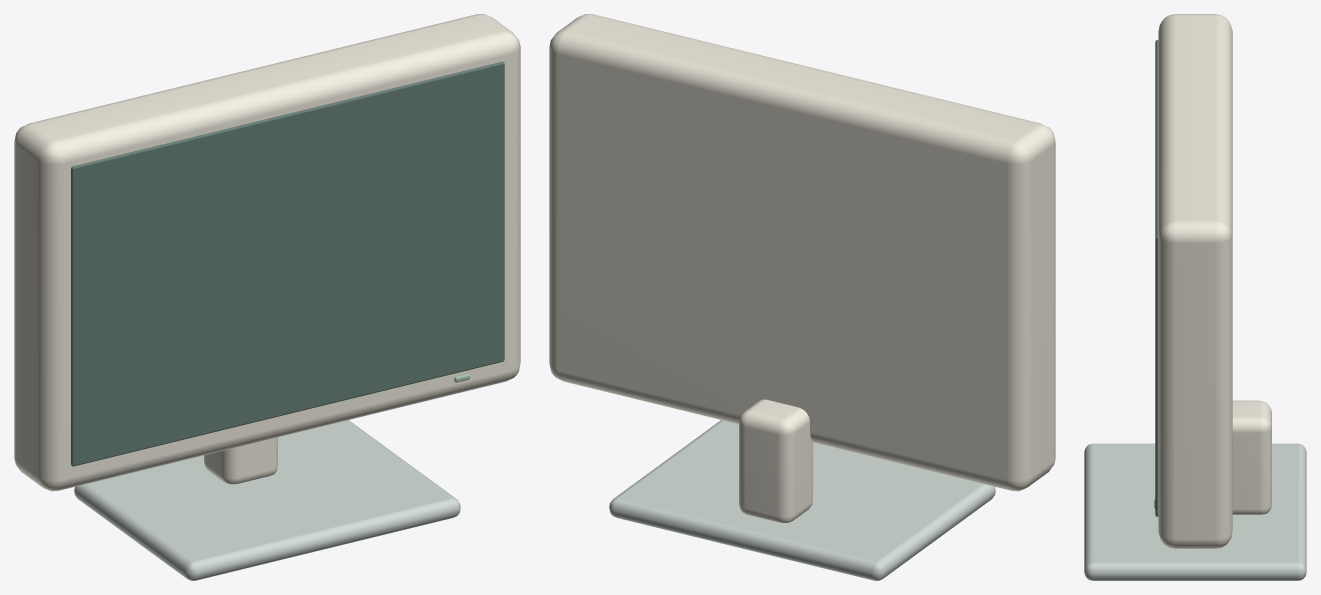
The model's file is monitor.glb.
3 renders of one model, left to right at view 1: azimuth 30°, elevation 25°; view 2: azimuth 150°, elevation 25°; view 3: azimuth 270°, elevation 25°, orthographic. The views are drawn at different scales.
Parts seen in each view (by area): view 1: monitor | material-batched geometry; view 2: monitor | material-batched geometry; view 3: monitor | material-batched geometry.
Boxes of the visible parts, bbox=[...] form: monitor | material-batched geometry: bbox=[14, 14, 520, 580]; monitor | material-batched geometry: bbox=[549, 14, 1055, 580]; monitor | material-batched geometry: bbox=[1084, 14, 1306, 580].
Bounding box in the file's own units: 1.05 × 0.9 × 0.45.
